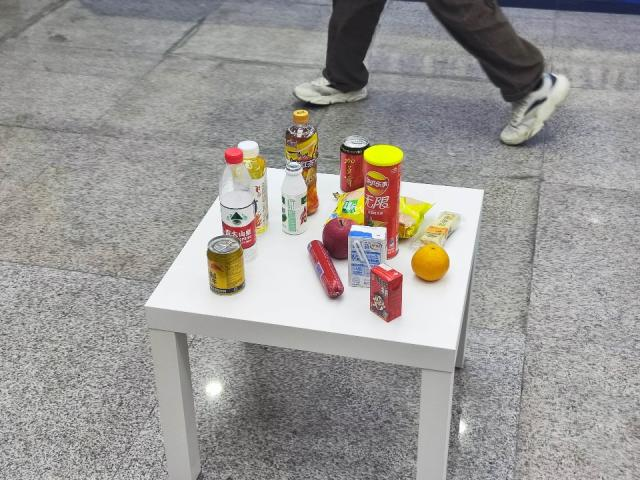Canned_drinks: (206, 234, 248, 296), (339, 139, 369, 193)
bottle: (219, 150, 256, 231)
cylinder: (364, 143, 404, 258)
drink_box: (370, 266, 408, 337), (349, 226, 371, 290)
